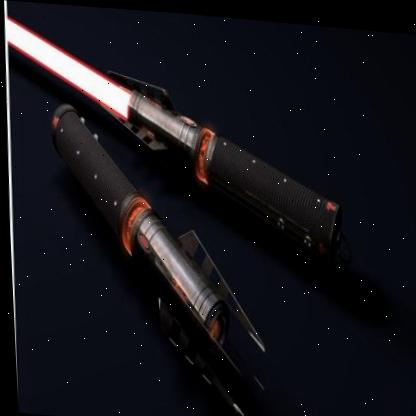sith_lightsaber: (0, 0, 345, 248), (25, 90, 287, 416)
